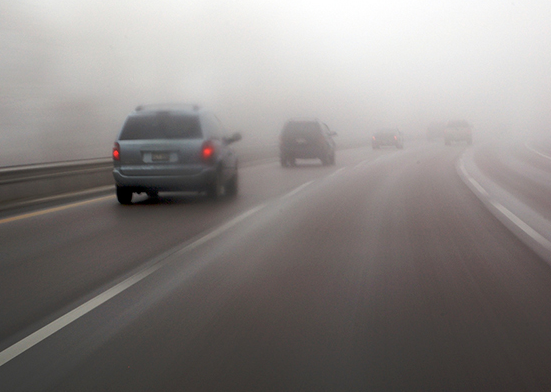car: (109, 100, 245, 205), (276, 116, 338, 166), (369, 123, 404, 150), (443, 118, 476, 146), (426, 119, 448, 139)
